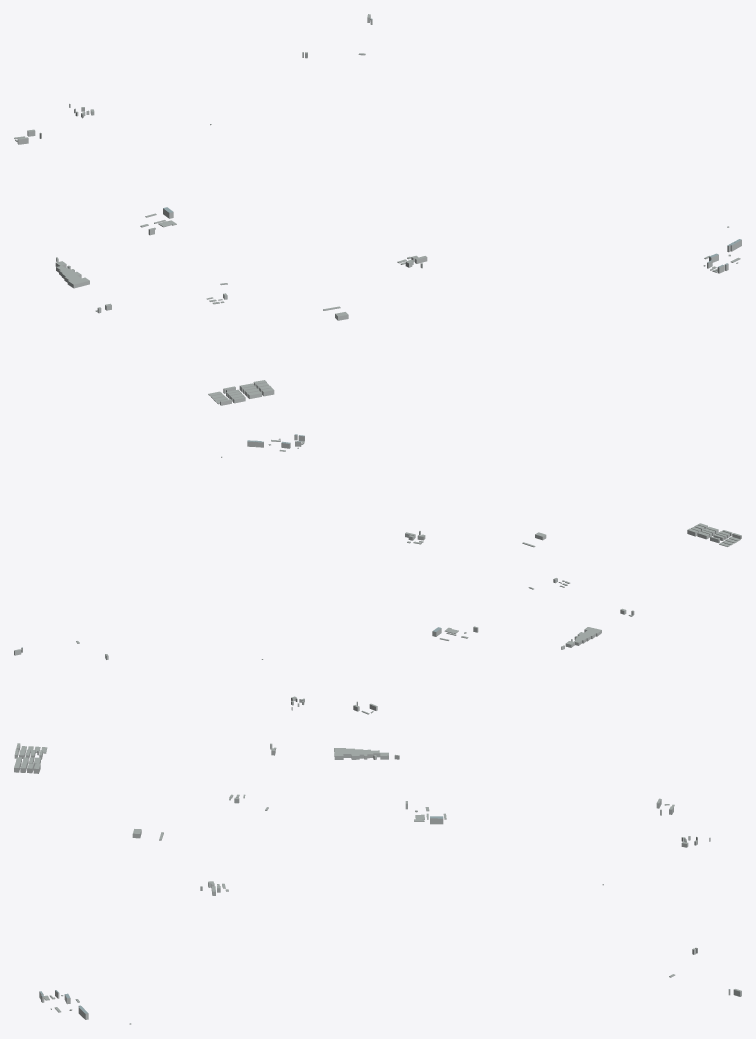
The picture shows the model from 3 angles, top to bottom: view 1: azimuth 30°, elevation 25°; view 2: azimuth 150°, elevation 25°; view 3: azimuth 270°, elevation 25°; orthographic projection. The views are drawn at different scales.
Parts seen in each view (by area): view 1: 上海全域建筑分块 · mapped building neighborhood; view 2: 上海全域建筑分块 · mapped building neighborhood; view 3: 上海全域建筑分块 · mapped building neighborhood.
Part boxes in pixels (box(x1,y1,x2,y2)): 上海全域建筑分块 · mapped building neighborhood: box(14, 14, 741, 405); 上海全域建筑分块 · mapped building neighborhood: box(14, 434, 741, 714); 上海全域建筑分块 · mapped building neighborhood: box(14, 743, 741, 1024).
Size of the model in its own units: 1878 by 19.8 by 2080.
